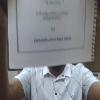notebook: (6, 0, 98, 69)
